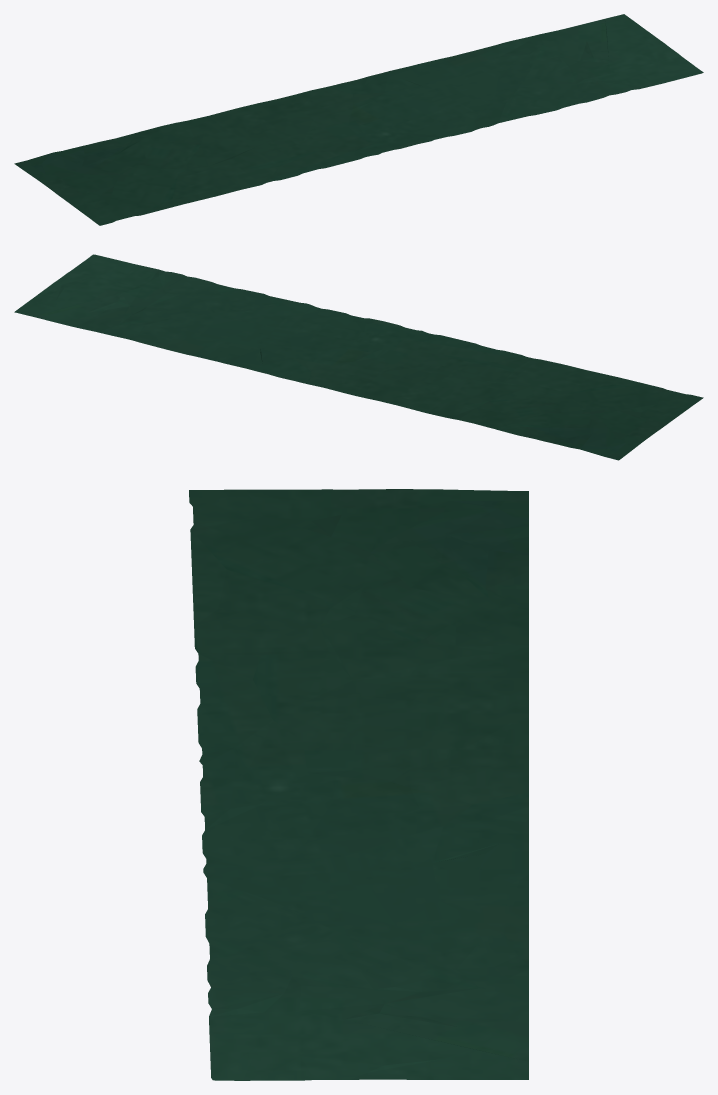
3 renders of one model, top to bottom at view 1: azimuth 30°, elevation 25°; view 2: azimuth 150°, elevation 25°; view 3: azimuth 270°, elevation 25°, orthographic. The views are drawn at different scales.
Size of the model in its own units: 418 by 1.23 by 102.
1 material, 1 textured.
